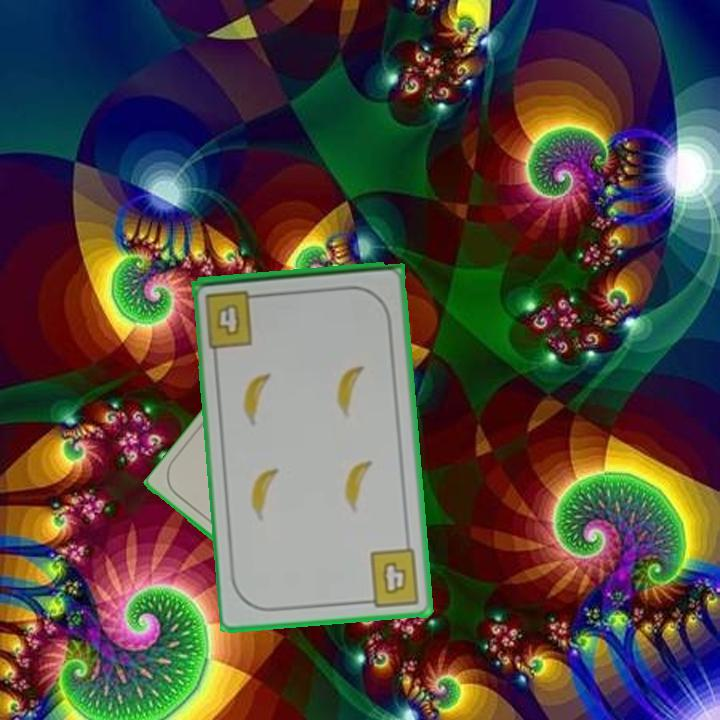4b: (201, 286, 266, 351), (359, 545, 423, 610)
